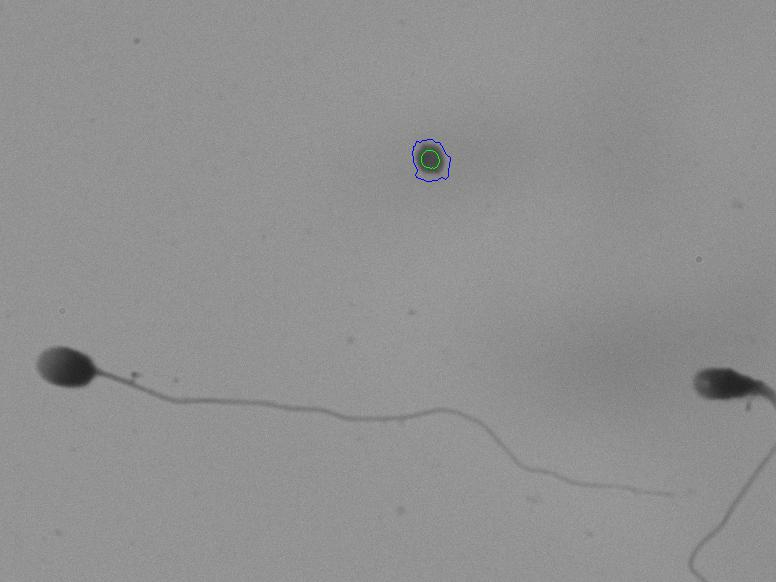Normal: (20, 307, 634, 518)
